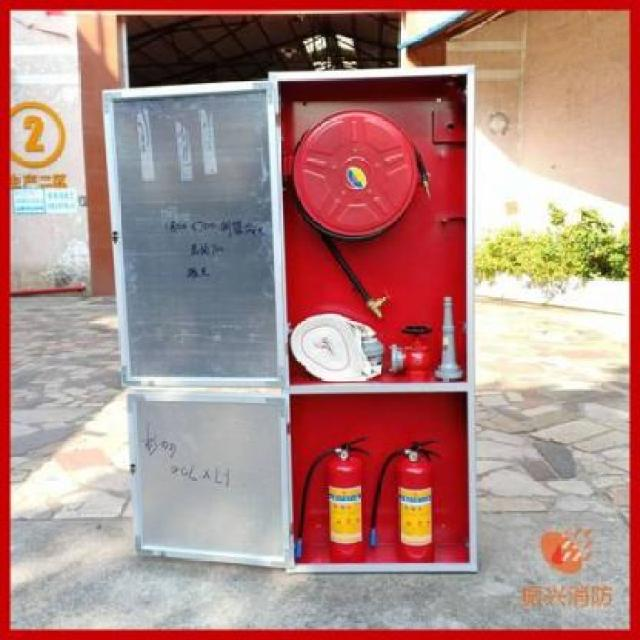firehydrant: (99, 59, 482, 578)
